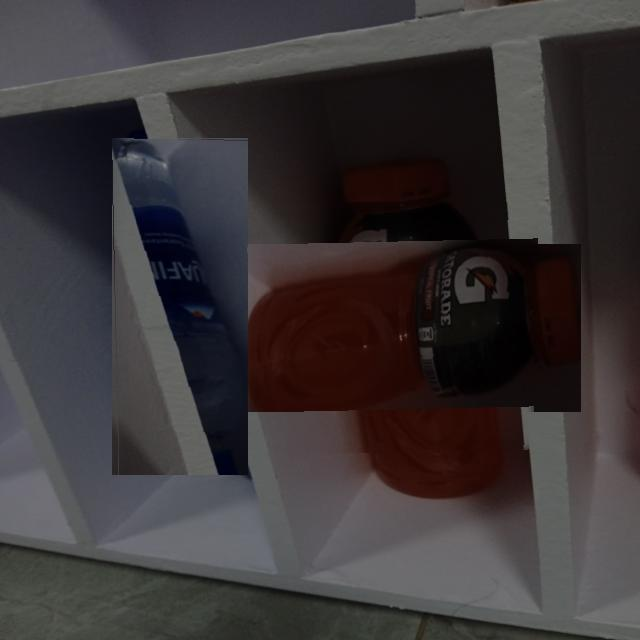Plastic: (286, 202, 539, 455), (111, 137, 248, 475)
